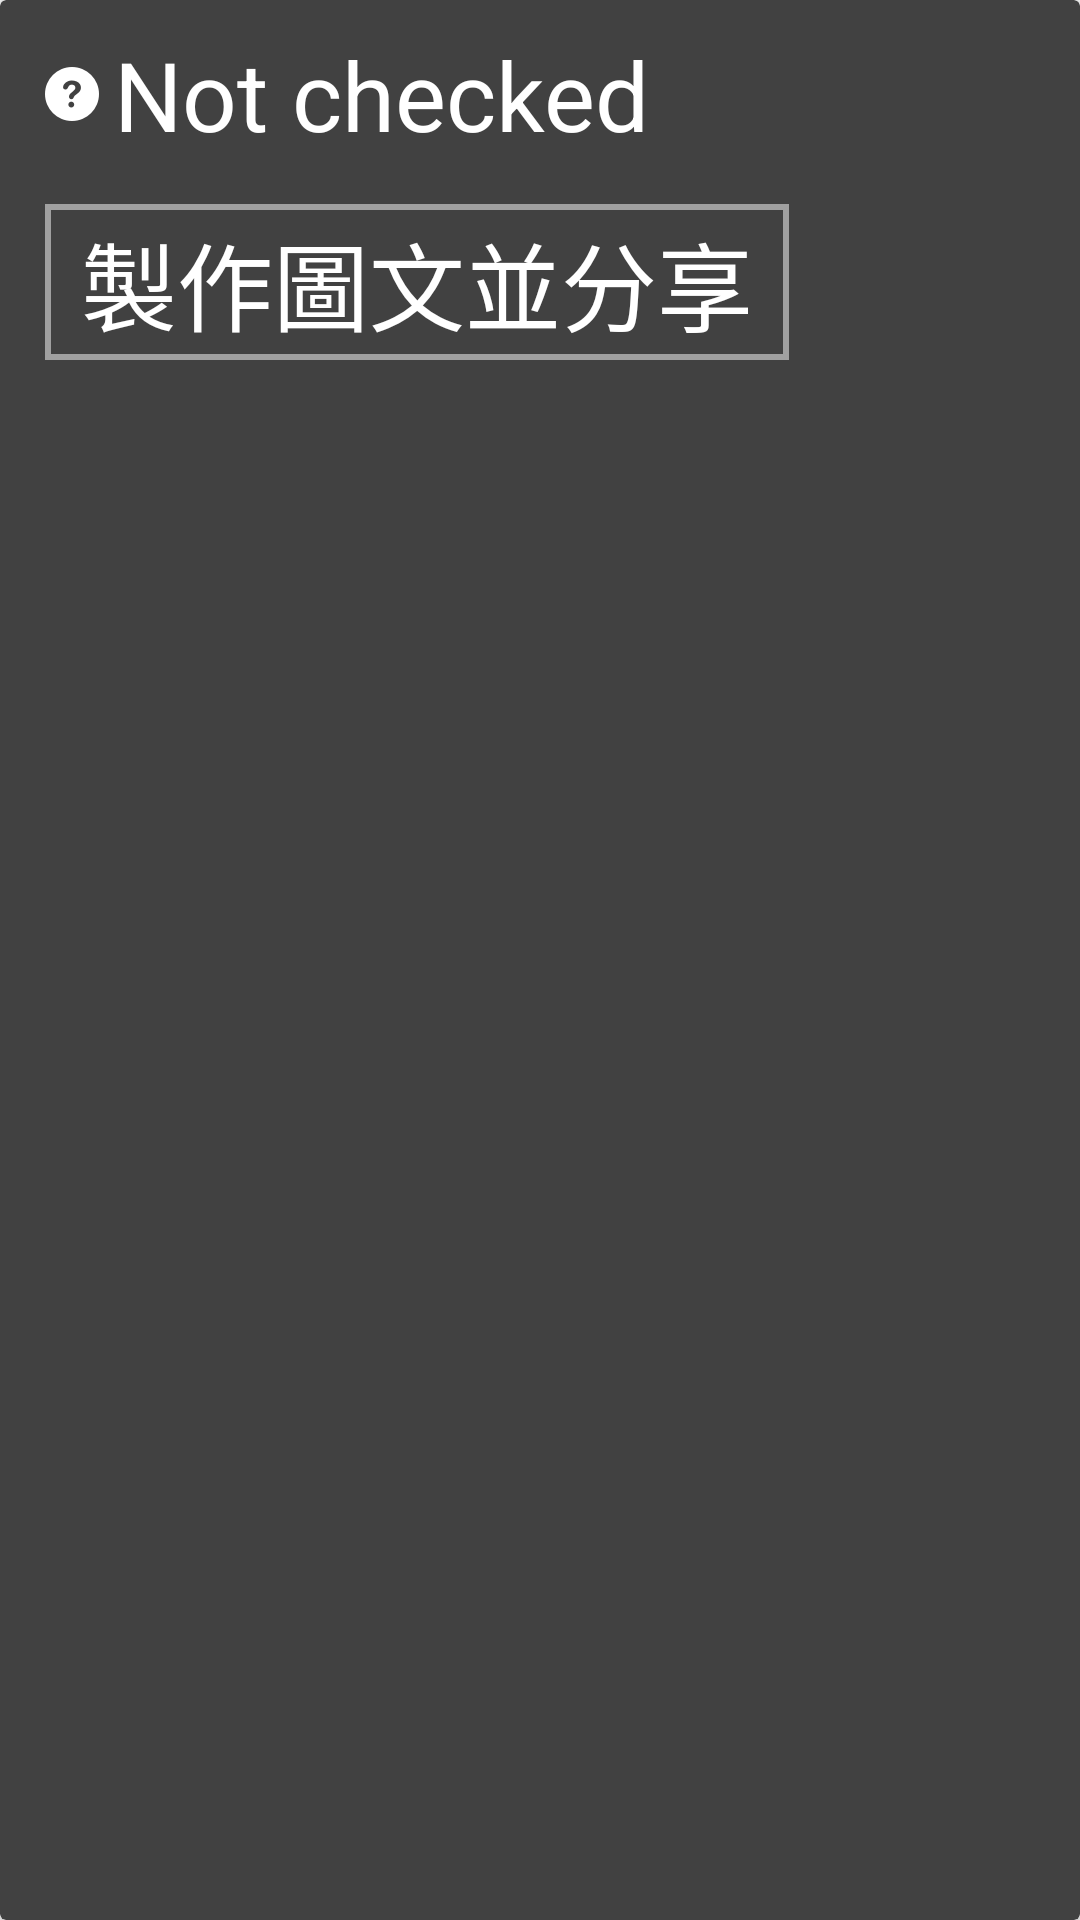

Icons on this 1080px×1920px Android screen, each with the point to tap as (x=x, y=y):
no result: (x=72, y=94)
